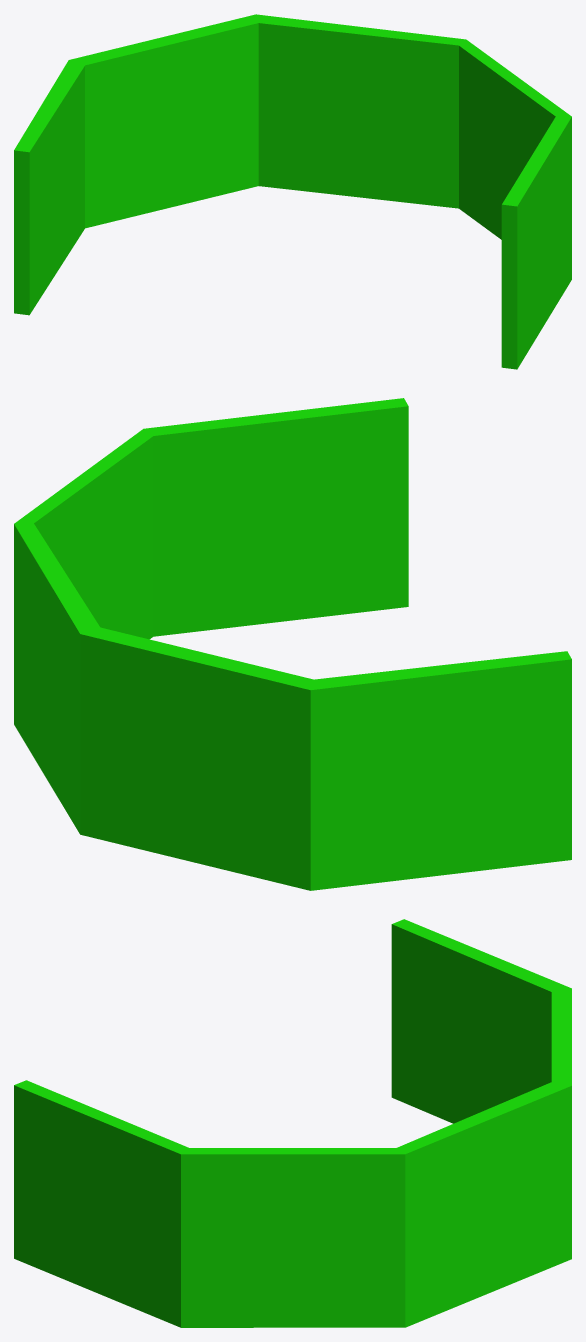
The model's file is SM_wall_270Oct_collider.fbx.
3 renders of one model, top to bottom at view 1: azimuth 30°, elevation 25°; view 2: azimuth 150°, elevation 25°; view 3: azimuth 270°, elevation 25°, orthographic. The views are drawn at different scales.
Visible parts, largest first — view 1: Cube.003; view 2: Cube.003; view 3: Cube.003.
Part boxes in pixels (box(x1,y1,x2,y2)): Cube.003: box(14, 14, 571, 369); Cube.003: box(14, 398, 571, 890); Cube.003: box(14, 919, 571, 1327).
Bounding box in the file's own units: 5.02 × 14.59 × 14.63.
